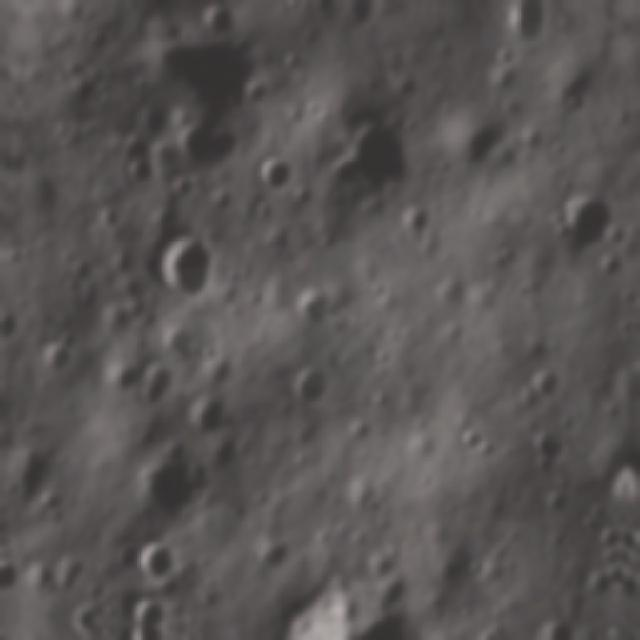crater: (142, 13, 268, 116), (277, 572, 431, 640), (325, 103, 423, 203), (143, 226, 223, 308), (130, 446, 212, 522), (447, 103, 518, 177), (551, 185, 623, 257), (173, 113, 244, 176), (525, 426, 577, 480), (286, 360, 339, 411), (180, 396, 229, 449), (134, 361, 184, 412), (289, 284, 342, 330), (137, 538, 185, 588), (359, 546, 416, 588), (157, 321, 208, 364), (533, 607, 590, 640), (36, 336, 79, 379), (528, 363, 569, 408), (126, 588, 172, 627), (251, 157, 294, 198), (578, 563, 618, 606), (605, 452, 629, 522), (257, 533, 298, 573), (31, 483, 72, 522), (0, 301, 34, 347), (450, 419, 490, 458), (402, 203, 438, 246), (200, 4, 237, 45), (124, 153, 161, 192), (558, 86, 594, 126), (88, 202, 127, 238), (0, 553, 29, 596), (596, 249, 627, 285), (490, 41, 521, 70), (363, 277, 392, 305), (462, 557, 491, 585)
